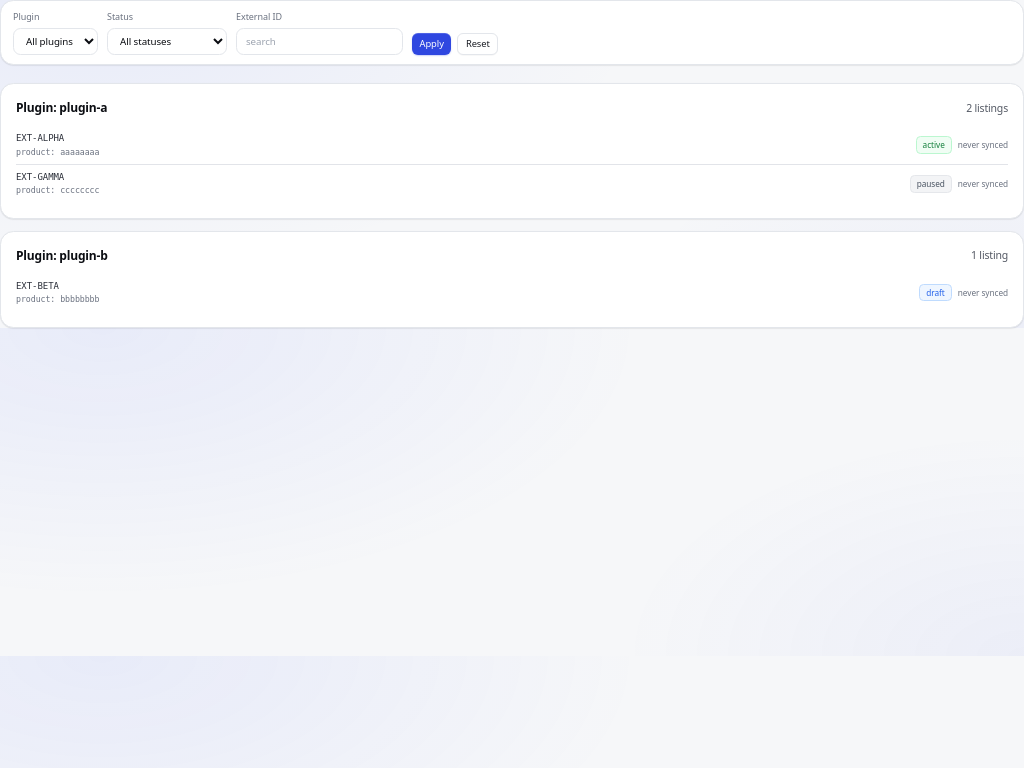
ListingsView › filters rows client-side by external ID search
Type "beta" into the field labelled "External ID". click: coordinates (320, 42)
box: [236, 28, 403, 55]
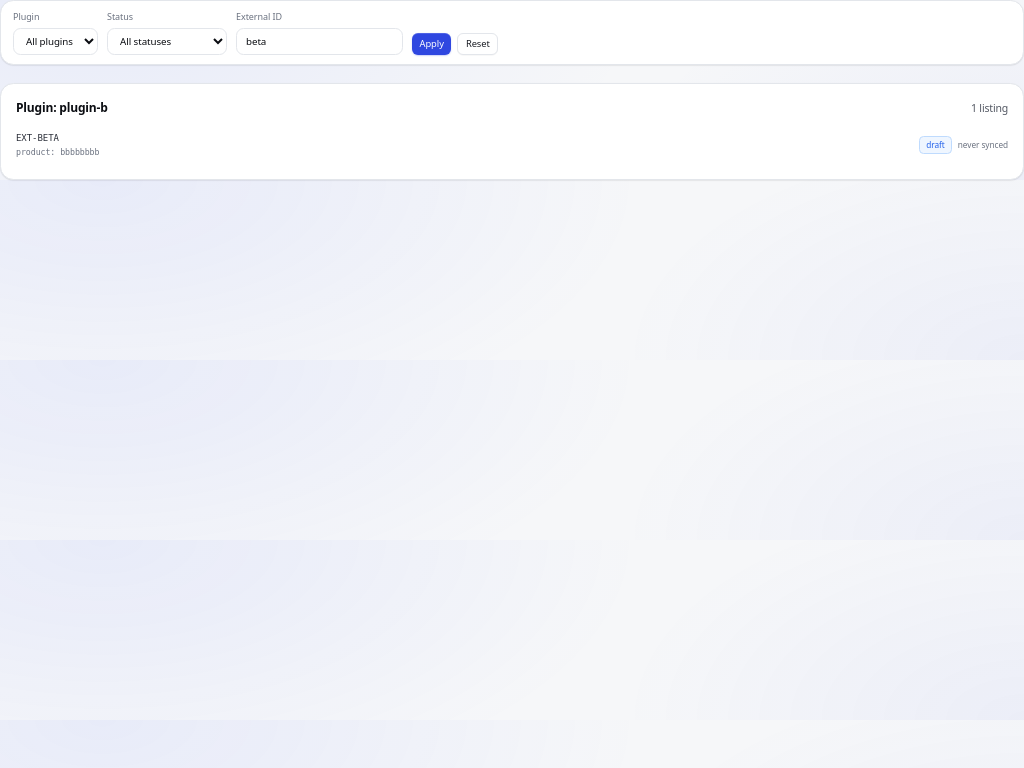
Expected: the number of elements with test id "plugin-group" is 1, [0, 83, 1023, 180]
